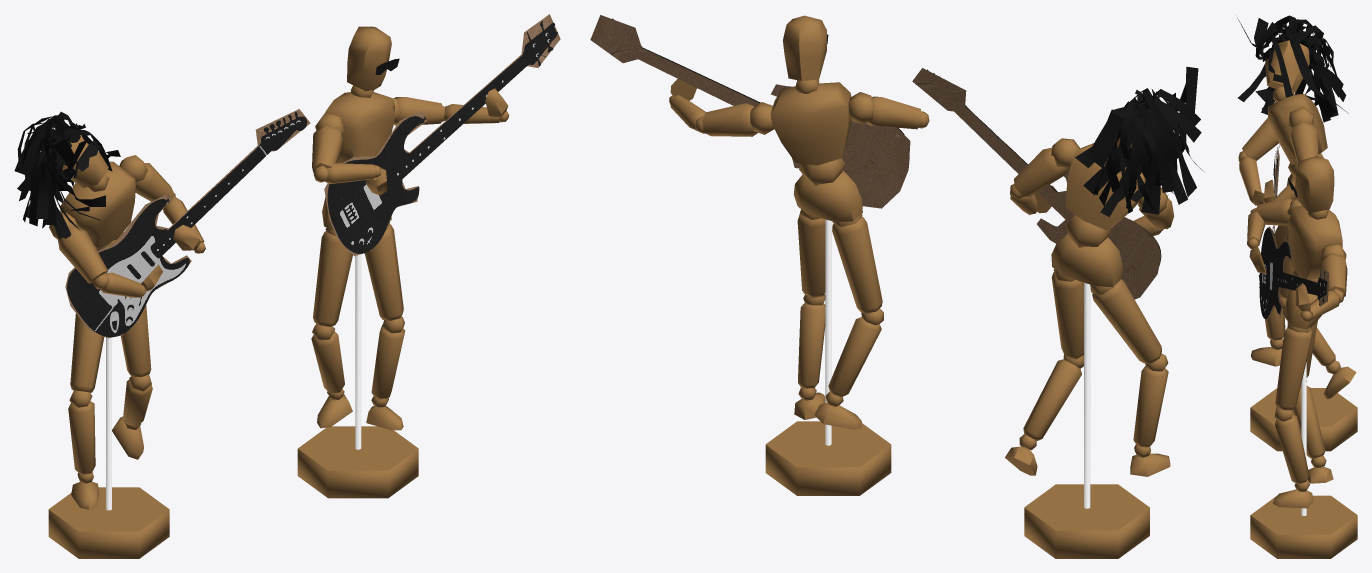
File: ljas_-_wooden_mannequin.glb
The picture shows the model from 3 angles, left to right: view 1: azimuth 30°, elevation 25°; view 2: azimuth 150°, elevation 25°; view 3: azimuth 270°, elevation 25°; orthographic projection. The views are drawn at different scales.
Visible parts, largest first — view 1: Cardboard.Guitar_207, Cardboard.Bass_457, Cedar.002_500, Cedar.001_250, Cedar.Hair_110, Cedar.Torso_199, Cedar.Torso.001_449, Cedar.Thigh.R.001_307, Cedar.Head.001_361, Cedar.Thigh.L.001_287, Cedar.Thigh.R_56, Cedar.Shin.R_50 (+14 smaller); view 2: Cedar.Hair_110, Cedar.001_250, Cedar.002_500, Cardboard.Bass_457, Cardboard.Guitar_207, Cedar.Torso.001_449, Cedar.Thigh.R.001_307, Cedar.Thigh.R_56, Cedar.Hips_98, Cedar.Torso_199, Cedar.Hips.001_349, Cedar.Head.001_361 (+13 smaller); view 3: Cedar.002_500, Cedar.Hair_110, Cedar.001_250, Cardboard.Bass_457, Cedar.Torso.001_449, Cedar.Thigh.L.001_287, Cedar.Head.001_361, Cedar.Torso_199, Cedar.Shin.L.001_281, Cedar.Head_111, Cedar.Shin.R.001_301, Cedar.UpperArm.L_139 (+25 smaller).
Part boxes in pixels (x1=…): Cardboard.Guitar_207: x1=65, y1=109, x2=310, y2=338; Cardboard.Bass_457: x1=324, y1=14, x2=560, y2=256; Cedar.002_500: x1=297, y1=254, x2=418, y2=498; Cedar.001_250: x1=48, y1=337, x2=169, y2=558; Cedar.Hair_110: x1=14, y1=112, x2=120, y2=239; Cedar.Torso_199: x1=60, y1=161, x2=135, y2=249; Cedar.Torso.001_449: x1=325, y1=92, x2=394, y2=163; Cedar.Thigh.R.001_307: x1=313, y1=231, x2=352, y2=326; Cedar.Head.001_361: x1=347, y1=26, x2=399, y2=91; Cedar.Thigh.L.001_287: x1=364, y1=224, x2=403, y2=320; Cedar.Thigh.R_56: x1=70, y1=313, x2=104, y2=392; Cedar.Shin.R_50: x1=68, y1=401, x2=95, y2=474; Cedar.Hair_110: x1=1075, y1=66, x2=1203, y2=216; Cedar.001_250: x1=1024, y1=282, x2=1149, y2=558; Cedar.002_500: x1=765, y1=219, x2=891, y2=495; Cardboard.Bass_457: x1=590, y1=15, x2=910, y2=208; Cardboard.Guitar_207: x1=912, y1=68, x2=1161, y2=299; Cedar.Torso.001_449: x1=770, y1=82, x2=851, y2=165; Cedar.Thigh.R.001_307: x1=832, y1=217, x2=882, y2=313; Cedar.Thigh.R_56: x1=1092, y1=279, x2=1161, y2=364; Cedar.Hips_98: x1=1051, y1=233, x2=1122, y2=287; Cedar.Torso_199: x1=1065, y1=143, x2=1145, y2=230; Cedar.Hips.001_349: x1=793, y1=170, x2=862, y2=221; Cedar.Head.001_361: x1=783, y1=15, x2=828, y2=80; Cedar.002_500: x1=1250, y1=362, x2=1357, y2=558; Cedar.Hair_110: x1=1237, y1=15, x2=1348, y2=122; Cedar.001_250: x1=1250, y1=388, x2=1357, y2=451; Cardboard.Bass_457: x1=1259, y1=226, x2=1328, y2=319; Cedar.Torso.001_449: x1=1288, y1=205, x2=1342, y2=279; Cedar.Thigh.L.001_287: x1=1275, y1=327, x2=1312, y2=410; Cedar.Head.001_361: x1=1288, y1=156, x2=1334, y2=212; Cedar.Torso_199: x1=1268, y1=93, x2=1327, y2=164; Cedar.Shin.L.001_281: x1=1275, y1=414, x2=1309, y2=483; Cedar.Head_111: x1=1262, y1=39, x2=1309, y2=92; Cedar.Shin.R.001_301: x1=1293, y1=386, x2=1325, y2=458; Cedar.UpperArm.L_139: x1=1290, y1=122, x2=1318, y2=163.
Bounding box in the file's own units: 0.4298 × 0.3207 × 0.0913.
Materials: 6 (1 with a texture image).
